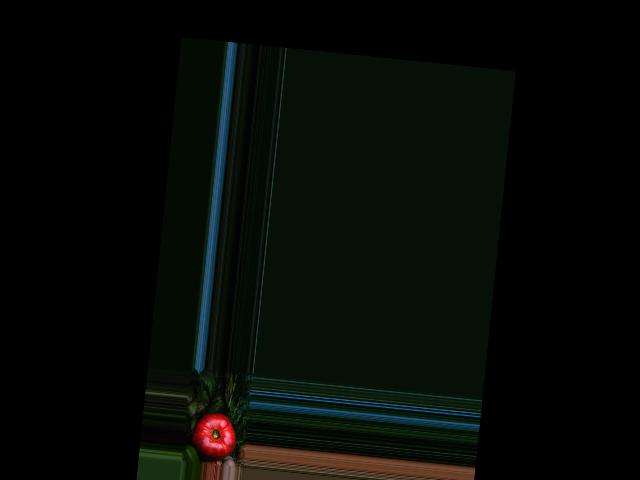tomato: (188, 411, 238, 463)
